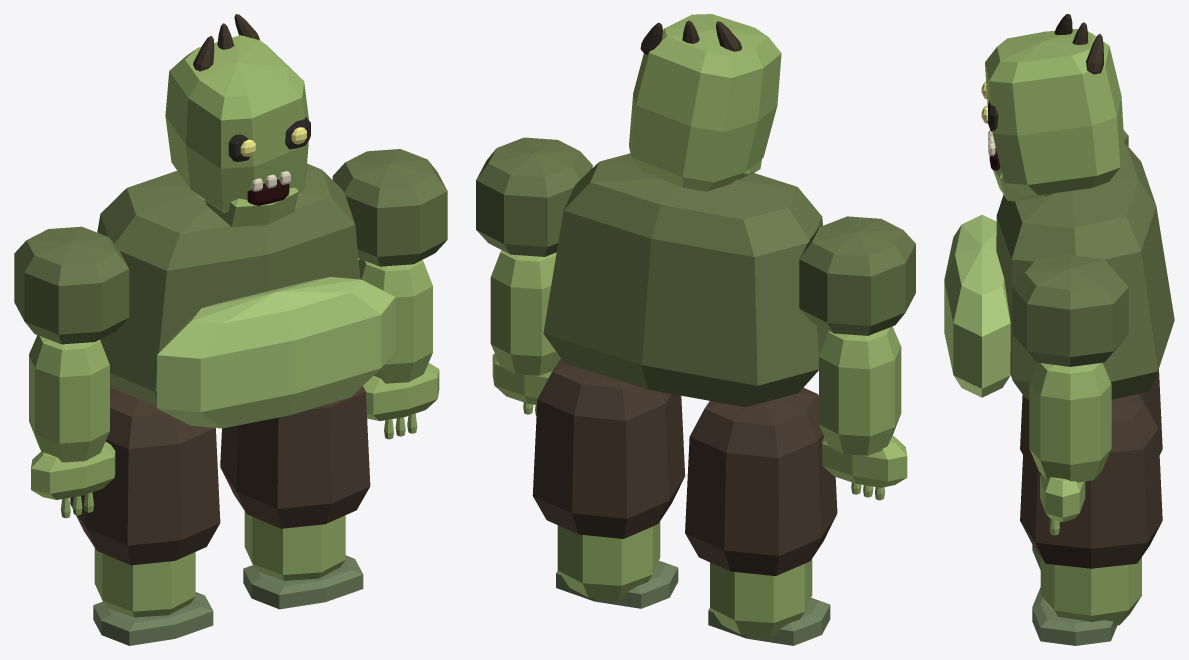
The model's file is mon-bloater-1.glb.
3 renders of one model, left to right at view 1: azimuth 30°, elevation 25°; view 2: azimuth 150°, elevation 25°; view 3: azimuth 270°, elevation 25°, orthographic. The views are drawn at different scales.
Visible parts, largest first — view 1: torso, leg-right, arm-right, leg-left, head, arm-left; view 2: torso, leg-right, leg-left, arm-right, head, arm-left; view 3: torso, arm-left, leg-left, head, leg-right.
Boxes of the visible parts, x1,y1,x2,y2 form: torso: (97,163,395,428); leg-right: (70,385,220,645); arm-right: (14,226,129,518); leg-left: (220,386,370,609); head: (165,14,310,227); arm-left: (332,149,447,439); torso: (543,153,828,407); leg-right: (685,387,837,645); leg-left: (532,358,685,608); arm-right: (799,216,915,500); head: (629,14,781,191); arm-left: (476,137,592,416); torso: (944,144,1174,399); arm-left: (1012,255,1128,535); leg-left: (1020,394,1162,645); head: (981,14,1124,201); leg-right: (1020,369,1162,569).
Size of the model in its own units: 1.78 by 2.4 by 0.8818.
